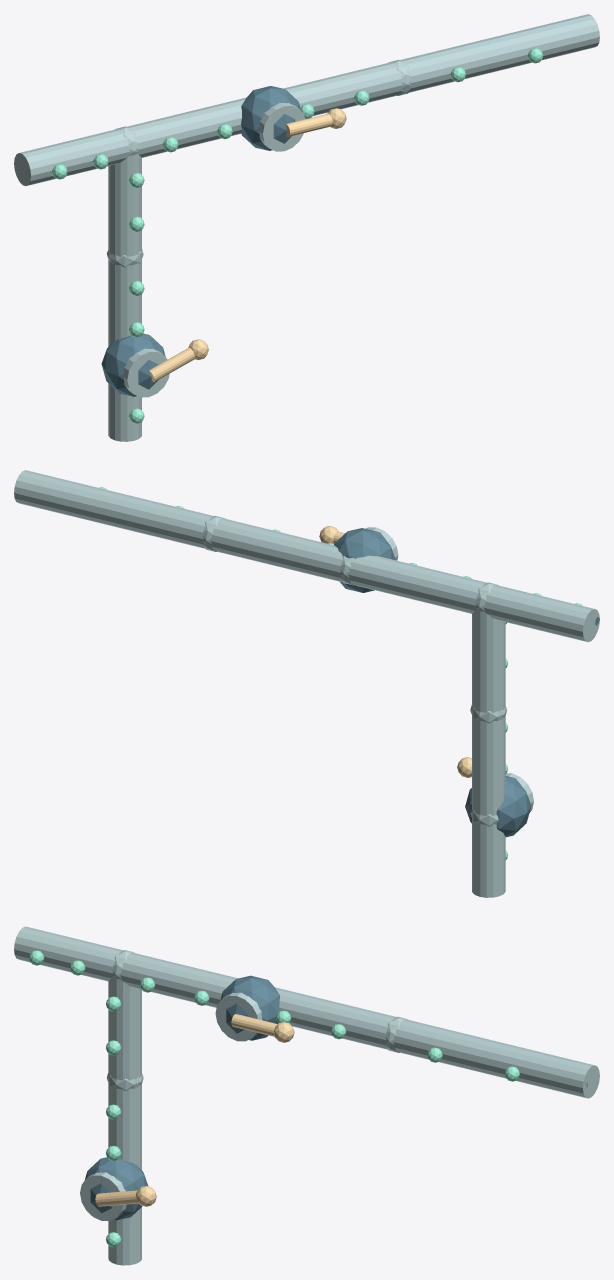
Rendered from air-11-1.glb.
The picture shows the model from 3 angles, top to bottom: view 1: azimuth 30°, elevation 25°; view 2: azimuth 150°, elevation 25°; view 3: azimuth 330°, elevation 25°; orthographic projection.
Visible parts, largest first — view 1: pipe, dark, flow, handle; view 2: pipe, dark, handle; view 3: pipe, dark, flow, handle.
Boxes of the visible parts, x1,y1,x2,y2 form: pipe: (14, 14, 599, 441); dark: (26, 86, 300, 396); flow: (52, 48, 543, 423); handle: (149, 108, 346, 381); pipe: (14, 470, 599, 897); dark: (334, 528, 599, 837); handle: (319, 526, 471, 777); pipe: (14, 926, 599, 1265); dark: (84, 975, 587, 1220); flow: (29, 950, 519, 1247); handle: (95, 1014, 294, 1206).
Size of the model in its own units: 2.77 by 1.49 by 0.343.
